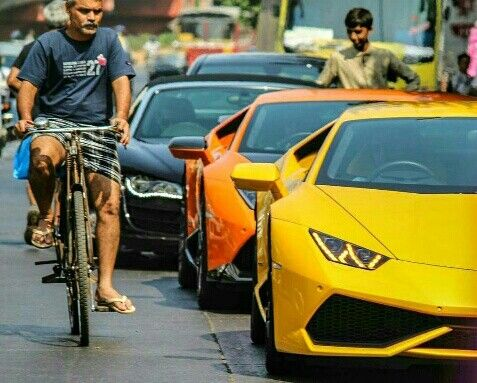person: (67, 1, 104, 37), (344, 10, 372, 47)
